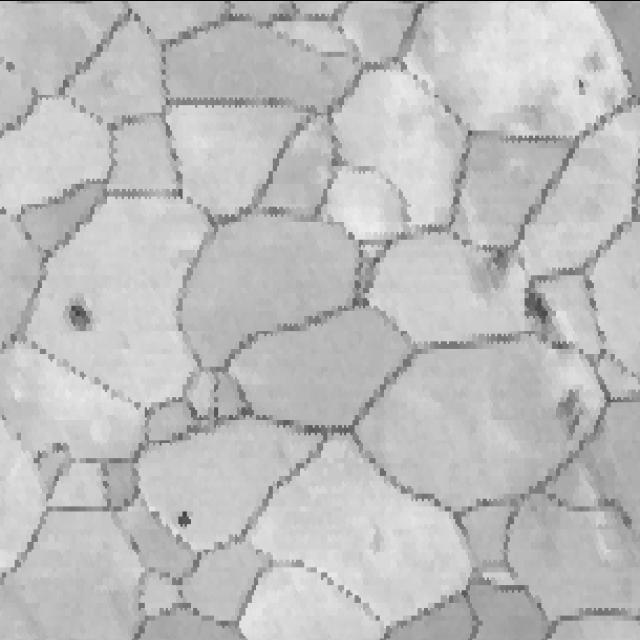good_void: (513, 284, 557, 332), (557, 386, 589, 435), (63, 288, 93, 337), (170, 497, 199, 539), (366, 519, 389, 559), (574, 65, 593, 96), (0, 51, 21, 79), (183, 396, 203, 423), (0, 186, 15, 214)
